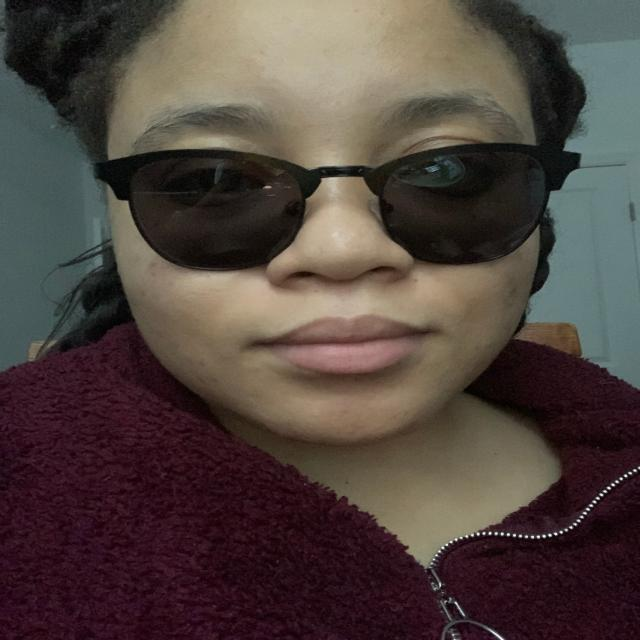2_gafas: (91, 141, 582, 271)
